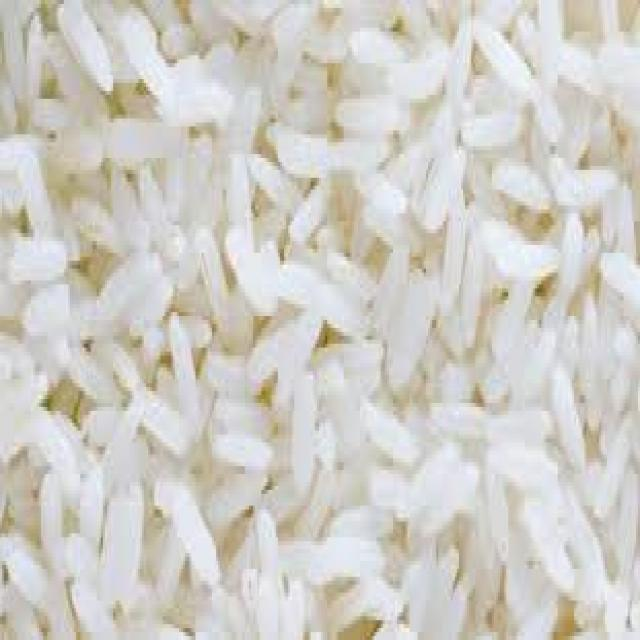White Rice: (245, 0, 631, 640)
